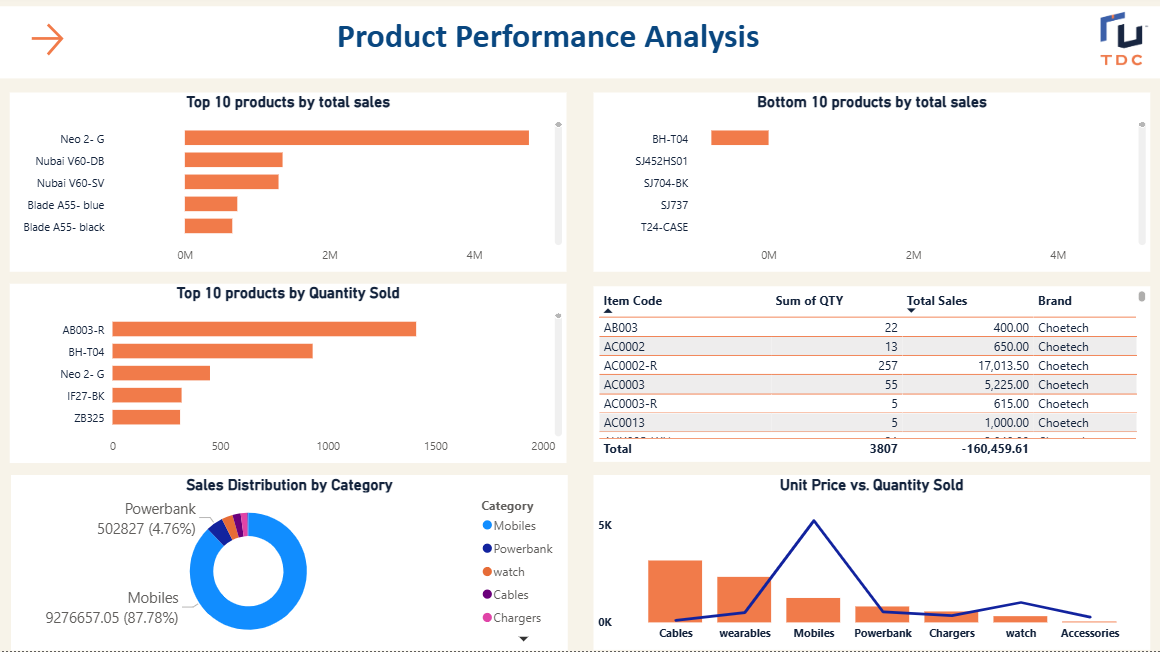

What the dashboard file says about the page in this screenshot:
{"tool":"powerbi","page":{"name":"Page 2","canvas":[1280,720],"ordinal":1},"visuals":[{"type":"shape","box":[0,12.3,1280.3,79.6],"z":0},{"type":"image","box":[1196.6,12.3,83.7,71.4],"z":1000},{"type":"textbox","box":[368.5,0,543.1,92.7],"z":2000},{"type":"actionButton","box":[32.8,25.7,134,45.6],"z":3000},{"type":"barChart","title":"Top 10 products by total sales ","fields":{"Category":["Monthly SALES.Item Code"],"Y":["Monthly SALES.Total Sales"]},"box":[15.7,106.9,611.5,196.7],"z":4000},{"type":"barChart","title":"Top 10 products by Quantity Sold","fields":{"Category":["Monthly SALES.Item Code"],"Y":["Monthly SALES.Quantity Sold"]},"box":[15.7,317.1,611.5,196.7],"z":5000},{"type":"barChart","title":"Bottom 10 products by total sales ","fields":{"Category":["Monthly SALES.Item Code"],"Y":["Monthly SALES.Total Sales"]},"box":[655.7,106.9,611.5,196.7],"z":6000},{"type":"tableEx","fields":{"Values":["Monthly SALES.Item Code","Sum(Monthly SALES.QTY)","Monthly SALES.Total Sales","Monthly SALES.Brand"]},"box":[655.7,319.1,611.5,192.4],"z":7000},{"type":"donutChart","title":"Sales Distribution by Category","fields":{"Category":["Monthly SALES.Category"],"Y":["Monthly SALES.Total Sales"]},"box":[17.1,527.4,611.5,192.4],"z":8000},{"type":"lineClusteredColumnComboChart","title":"Unit Price vs. Quantity Sold","fields":{"Category":["Monthly SALES.Category"],"Y":["Sum(Monthly SALES.QTY)"],"Y2":["Monthly SALES.Avg Unit Price"]},"box":[656,527,611,192],"z":9000}]}

Visuals, with their boxes in screenshot pixels (x1, y1, x2, y2), scaled from the page's 1280x720 canvas onto the 1160x652 screenshot:
shape: 0/11/1159/83
image: 1084/11/1159/76
textbox: 334/0/826/84
actionButton: 30/23/151/65
"Top 10 products by total sales " barChart: 14/97/568/275
"Top 10 products by Quantity Sold" barChart: 14/287/568/465
"Bottom 10 products by total sales " barChart: 594/97/1148/275
tableEx - Monthly SALES.Item Code x Sum(Monthly SALES.QTY): 594/289/1148/463
"Sales Distribution by Category" donutChart: 15/478/570/651
"Unit Price vs. Quantity Sold" lineClusteredColumnComboChart: 594/477/1148/651
